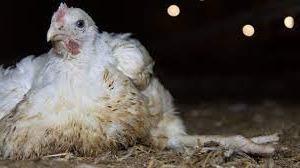AbNormal: (3, 5, 278, 164)
